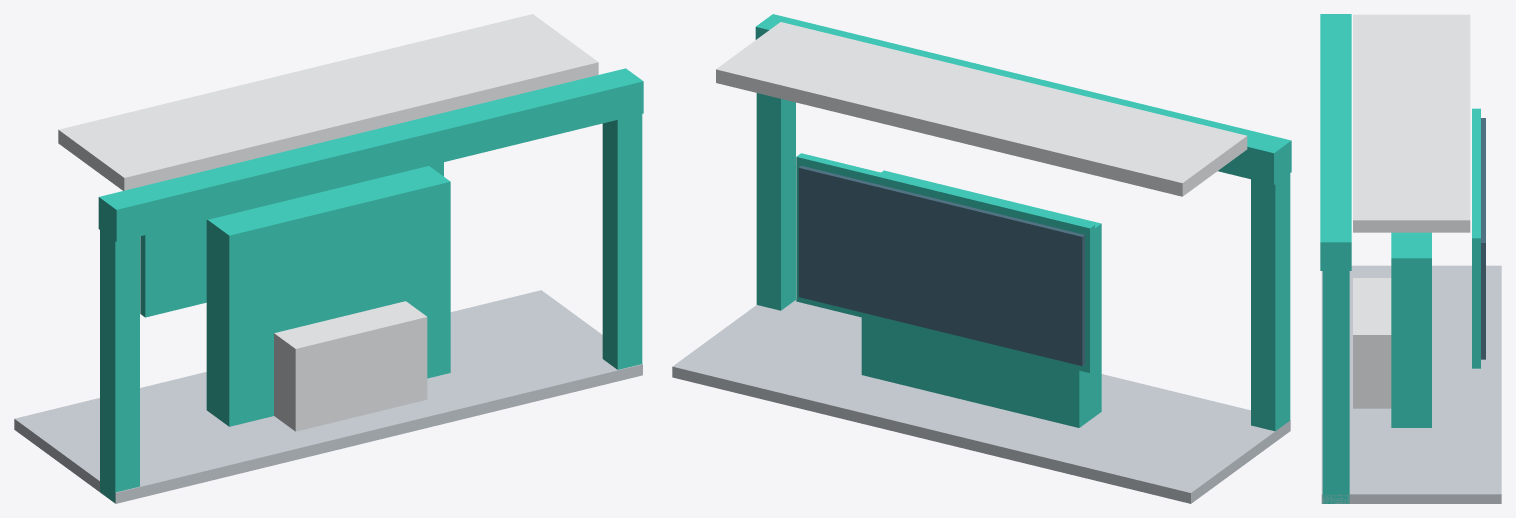
3 views of the same model, side by side, from view 1: azimuth 30°, elevation 25°; view 2: azimuth 150°, elevation 25°; view 3: azimuth 270°, elevation 25° (orthographic). The views are drawn at different scales.
Parts seen in each view (by area): view 1: Exhibition Booth Concept; view 2: Exhibition Booth Concept; view 3: Exhibition Booth Concept.
Part boxes in pixels (bbox=[...]): Exhibition Booth Concept: bbox=[14, 14, 643, 503]; Exhibition Booth Concept: bbox=[672, 14, 1291, 503]; Exhibition Booth Concept: bbox=[1320, 14, 1501, 503].
Size of the model in its own units: 6 by 3.34 by 2.01.
